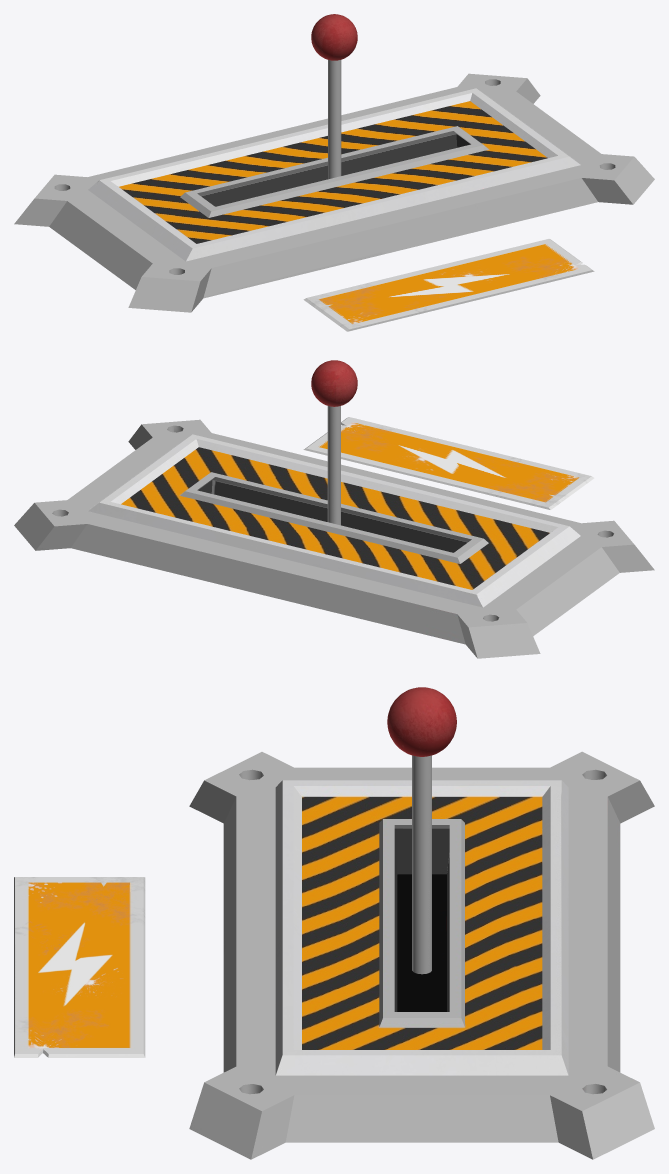
File: ItemLever.fbx
3 renders of one model, top to bottom at view 1: azimuth 30°, elevation 25°; view 2: azimuth 150°, elevation 25°; view 3: azimuth 270°, elevation 25°, orthographic. The views are drawn at different scales.
Visible parts, largest first — view 1: Plane001, Plane002, Cylinder001; view 2: Plane001, Plane002, Cylinder001; view 3: Plane001, Plane002, Cylinder001.
Boxes of the visible parts, x1,y1,x2,y2 form: Plane001: (14, 73, 654, 312); Plane002: (303, 239, 594, 331); Cylinder001: (311, 14, 357, 179); Plane001: (14, 419, 654, 658); Plane002: (303, 417, 594, 509); Cylinder001: (311, 360, 357, 525); Plane001: (189, 751, 654, 1159); Plane002: (14, 877, 145, 1057); Cylinder001: (387, 687, 456, 974).
Size of the model in its own units: 69.65 by 23.69 by 49.11.
